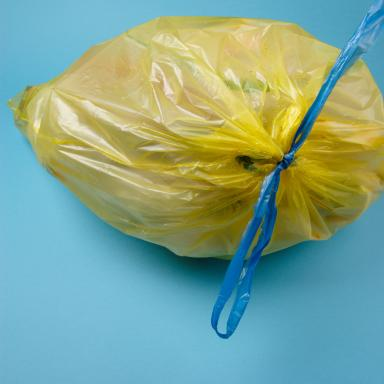plasticbag: (3, 0, 383, 338)
